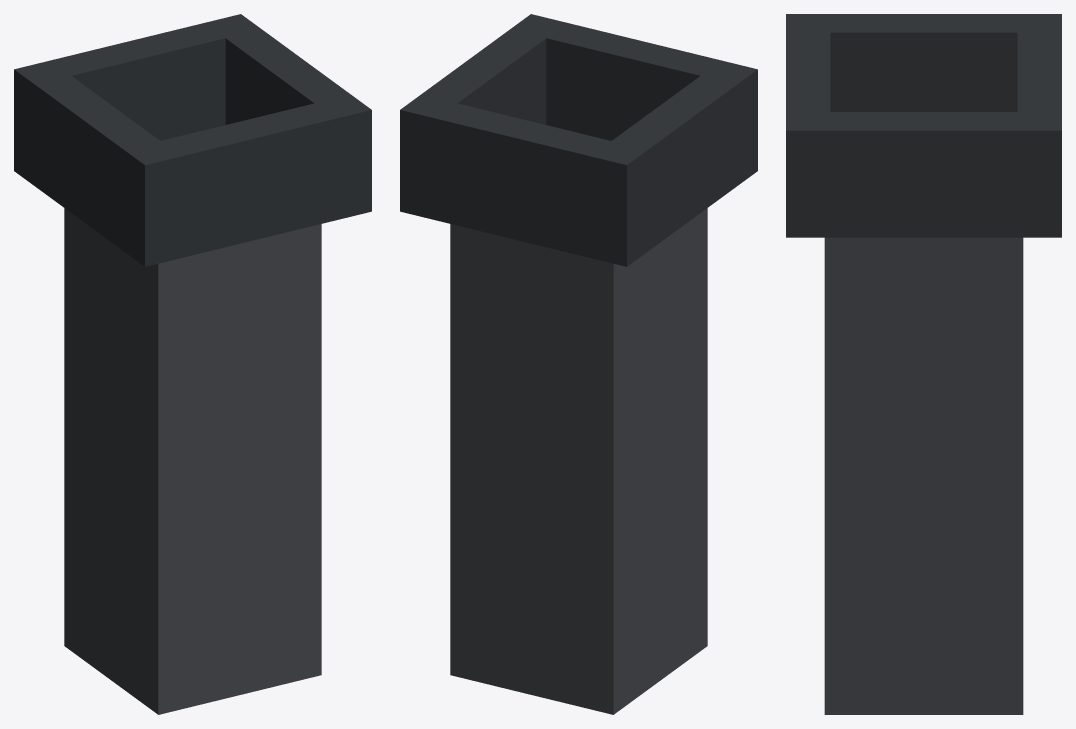
Rendered from Chimney2_C1.fbx.
3 views of the same model, side by side, from view 1: azimuth 30°, elevation 25°; view 2: azimuth 150°, elevation 25°; view 3: azimuth 270°, elevation 25° (orthographic). The views are drawn at different scales.
Visible parts, largest first — view 1: Chimney2_C1; view 2: Chimney2_C1; view 3: Chimney2_C1.
Part boxes in pixels (left/top/right/bottom): Chimney2_C1: left=14, top=14, right=371, bottom=714; Chimney2_C1: left=400, top=14, right=757, bottom=714; Chimney2_C1: left=786, top=14, right=1061, bottom=714.
Size of the model in its own units: 55.59 by 134 by 55.59.
